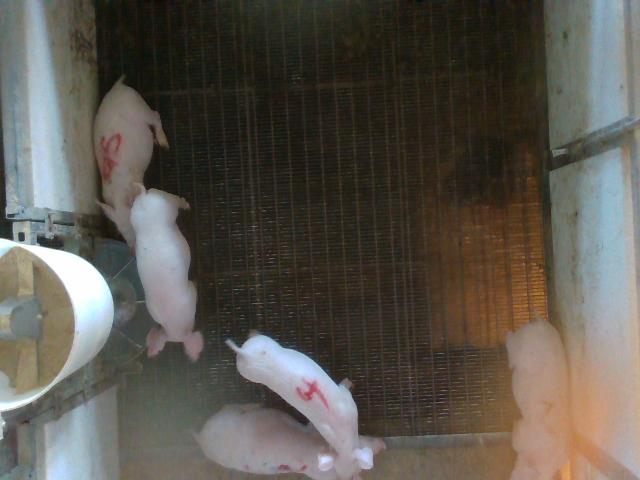pig-2: (506, 319, 569, 478)
pig-3: (195, 404, 336, 479)
pig-4: (226, 335, 374, 478)
pig-5: (94, 75, 169, 248)
